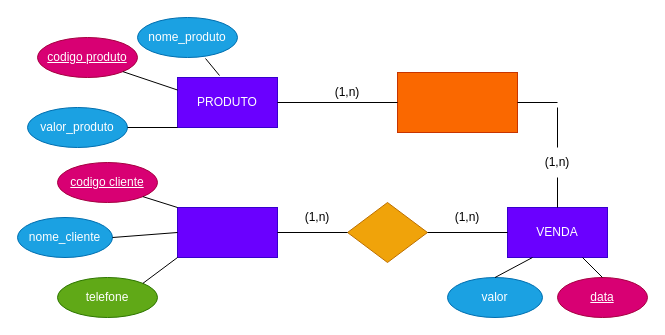
Image size: 665x335. Some labels were removed from this diagram. Each missing label, with the centre of its shape:
"CLIENTE" goes at point 227,232.
"FAZ" goes at point 387,232.
"PRODUTO_VENDA" goes at point 457,102.
